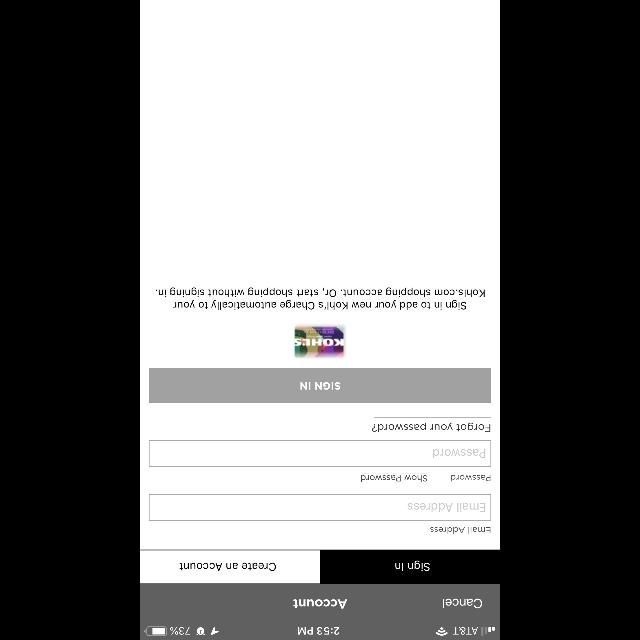image: (294, 327, 344, 358)
input: (149, 439, 491, 466), (149, 494, 491, 520)
text: (156, 288, 484, 310), (372, 418, 491, 432), (408, 502, 484, 512), (293, 599, 347, 609), (361, 473, 427, 481), (433, 448, 485, 458), (442, 598, 482, 608), (430, 527, 490, 533), (450, 475, 490, 481)
textbutton: (149, 368, 491, 402), (140, 550, 320, 584), (320, 550, 500, 584)
uppertaskbar: (140, 626, 500, 640)
